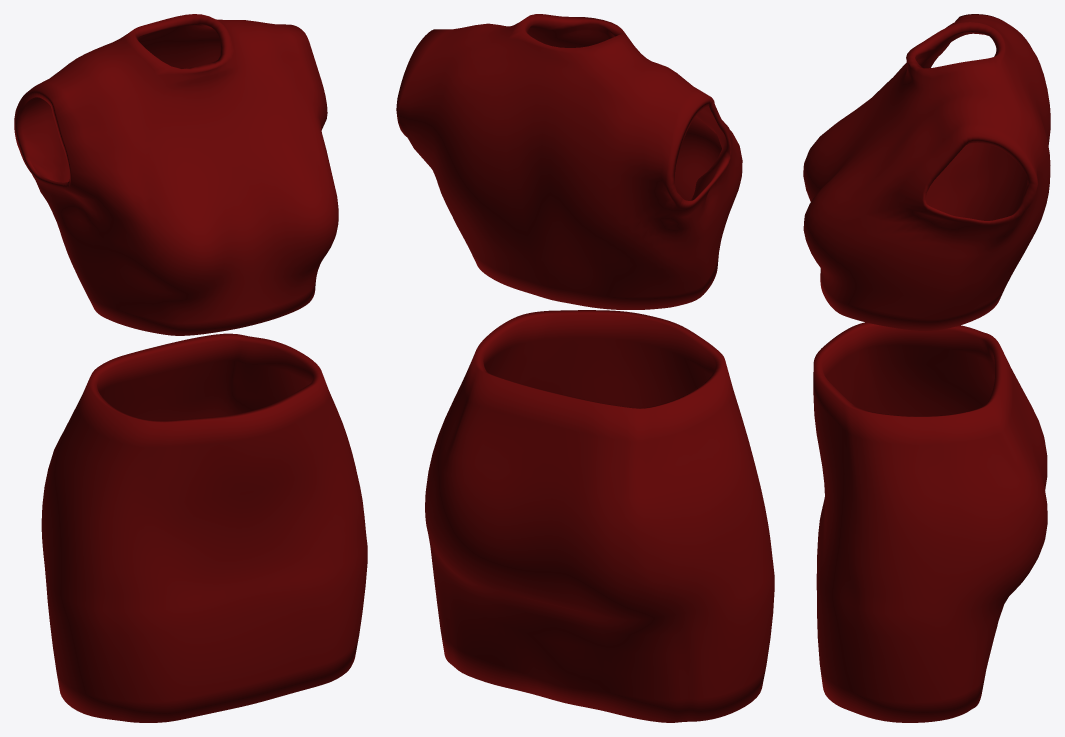
The model's file is TopAndSkirt.glb.
The picture shows the model from 3 angles, left to right: view 1: azimuth 30°, elevation 25°; view 2: azimuth 150°, elevation 25°; view 3: azimuth 270°, elevation 25°; orthographic projection. The views are drawn at different scales.
Parts seen in each view (by area): view 1: Cube.013; view 2: Cube.013; view 3: Cube.013.
Part boxes in pixels (left/top/right/bottom): Cube.013: left=14, top=14, right=367, bottom=722; Cube.013: left=396, top=14, right=774, bottom=722; Cube.013: left=803, top=14, right=1050, bottom=722.
Size of the model in its own units: 0.3853 by 0.7803 by 0.2815.
